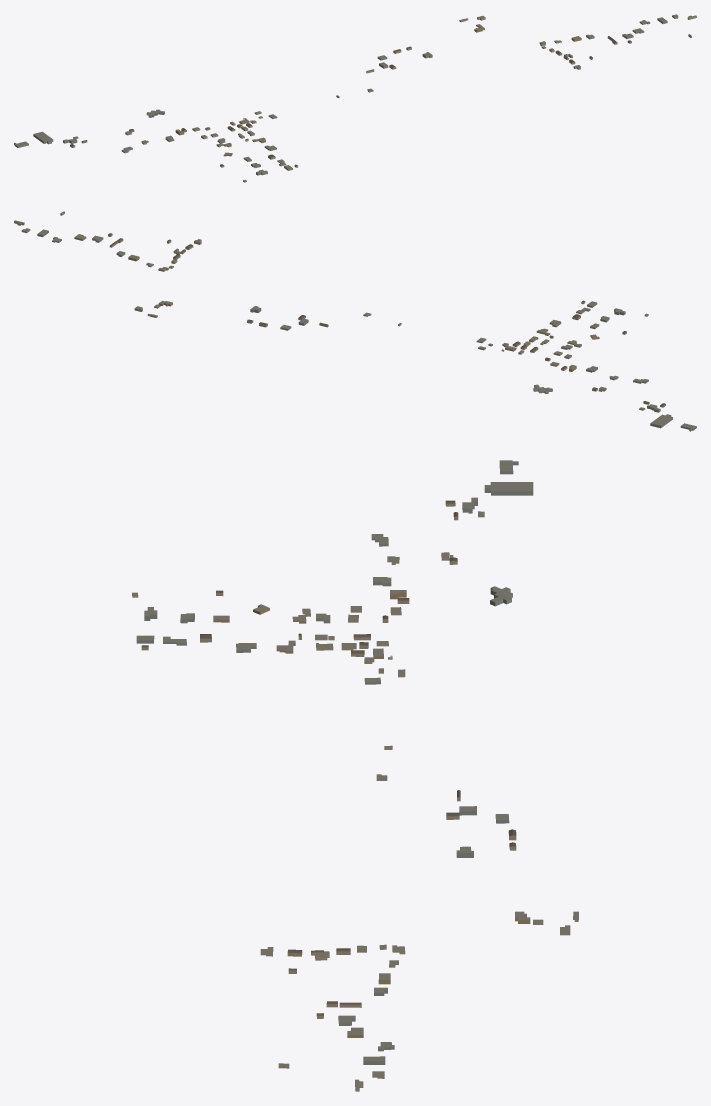
Rendered from BuildingsFar.glb.
3 views of the same model, one above another, from view 1: azimuth 30°, elevation 25°; view 2: azimuth 150°, elevation 25°; view 3: azimuth 270°, elevation 25° (orthographic). The views are drawn at different scales.
Parts seen in each view (by area): view 1: BuildingsFar; view 2: BuildingsFar; view 3: BuildingsFar.
Boxes of the visible parts, x1,y1,x2,y2 form: BuildingsFar: (14, 14, 696, 182); BuildingsFar: (14, 211, 696, 431); BuildingsFar: (132, 460, 578, 1091).
Bounding box in the file's own units: 1799 × 7.4 × 541.
